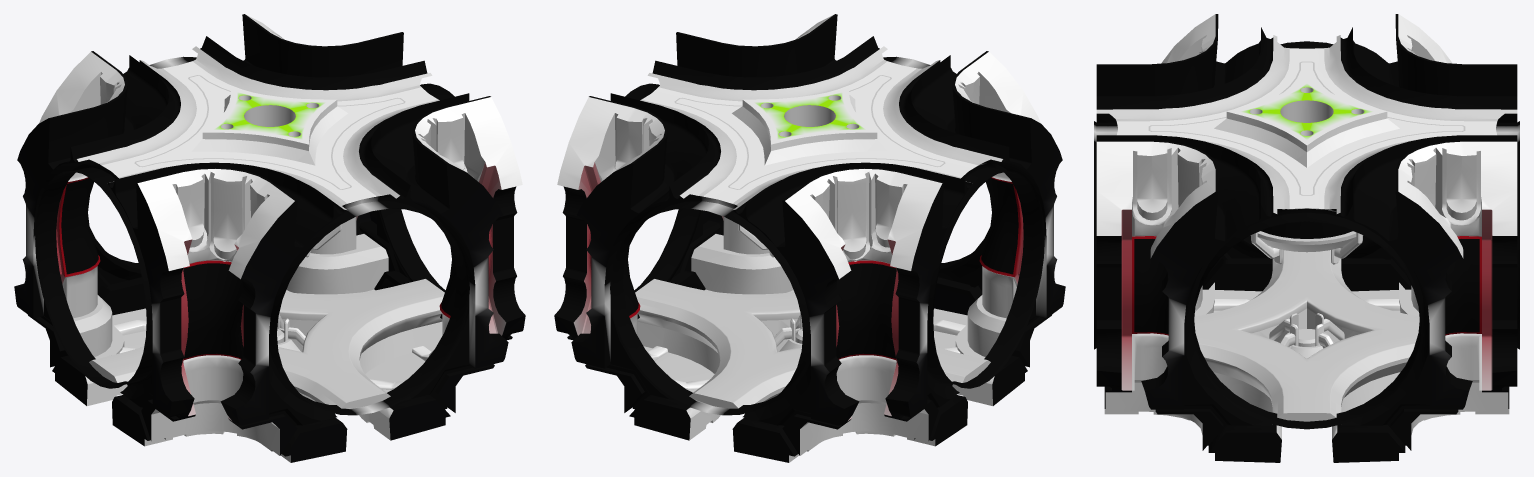
Rendered from part_main-lod0.dae.
3 renders of one model, left to right at view 1: azimuth 30°, elevation 25°; view 2: azimuth 150°, elevation 25°; view 3: azimuth 270°, elevation 25°, orthographic. The views are drawn at different scales.
Visible parts, largest first — view 1: part_main-lod0Xlod0Xp2genericXgen_p2_hulltextureaged_02_b, part_main-lod0Xlod0Xp2genericXgen_p2_hullpattern_01, part_main-lod0Xlod0Xp2genericXgen_p2_hulltexture_02_c, part_main-lod0Xlod0Xp2multimatXp2_multimat_01; view 2: part_main-lod0Xlod0Xp2genericXgen_p2_hulltextureaged_02_b, part_main-lod0Xlod0Xp2genericXgen_p2_hullpattern_01, part_main-lod0Xlod0Xp2genericXgen_p2_hulltexture_02_c, part_main-lod0Xlod0Xp2multimatXp2_multimat_01; view 3: part_main-lod0Xlod0Xp2genericXgen_p2_hulltextureaged_02_b, part_main-lod0Xlod0Xp2genericXgen_p2_hullpattern_01, part_main-lod0Xlod0Xp2genericXgen_p2_hulltexture_02_c, part_main-lod0Xlod0Xp2multimatXp2_multimat_01, part_main-lod0Xlod0Xp2genericXgen_p2_fx_01.
Boxes of the visible parts, x1,y1,x2,y2 form: part_main-lod0Xlod0Xp2genericXgen_p2_hulltextureaged_02_b: (14, 14, 525, 462); part_main-lod0Xlod0Xp2genericXgen_p2_hullpattern_01: (14, 15, 525, 462); part_main-lod0Xlod0Xp2genericXgen_p2_hulltexture_02_c: (66, 55, 469, 225); part_main-lod0Xlod0Xp2multimatXp2_multimat_01: (61, 178, 456, 358); part_main-lod0Xlod0Xp2genericXgen_p2_hulltextureaged_02_b: (554, 14, 1065, 462); part_main-lod0Xlod0Xp2genericXgen_p2_hullpattern_01: (554, 15, 1065, 462); part_main-lod0Xlod0Xp2genericXgen_p2_hulltexture_02_c: (610, 55, 1013, 225); part_main-lod0Xlod0Xp2multimatXp2_multimat_01: (623, 178, 1018, 358); part_main-lod0Xlod0Xp2genericXgen_p2_hulltextureaged_02_b: (1094, 14, 1519, 452); part_main-lod0Xlod0Xp2genericXgen_p2_hullpattern_01: (1096, 14, 1517, 462); part_main-lod0Xlod0Xp2genericXgen_p2_hulltexture_02_c: (1096, 40, 1517, 224); part_main-lod0Xlod0Xp2multimatXp2_multimat_01: (1134, 239, 1479, 334); part_main-lod0Xlod0Xp2genericXgen_p2_fx_01: (1261, 221, 1352, 238).
Size of the model in its own units: 32.39 by 23.04 by 32.39.
